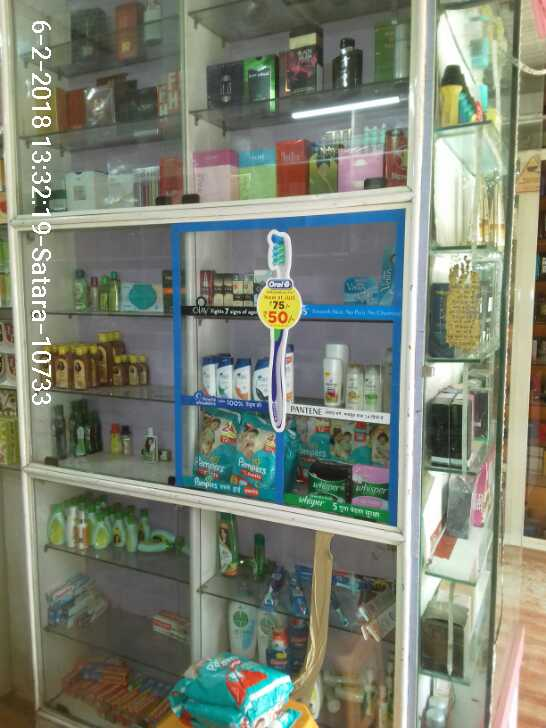venus: (378, 249, 396, 305), (344, 278, 377, 305)
